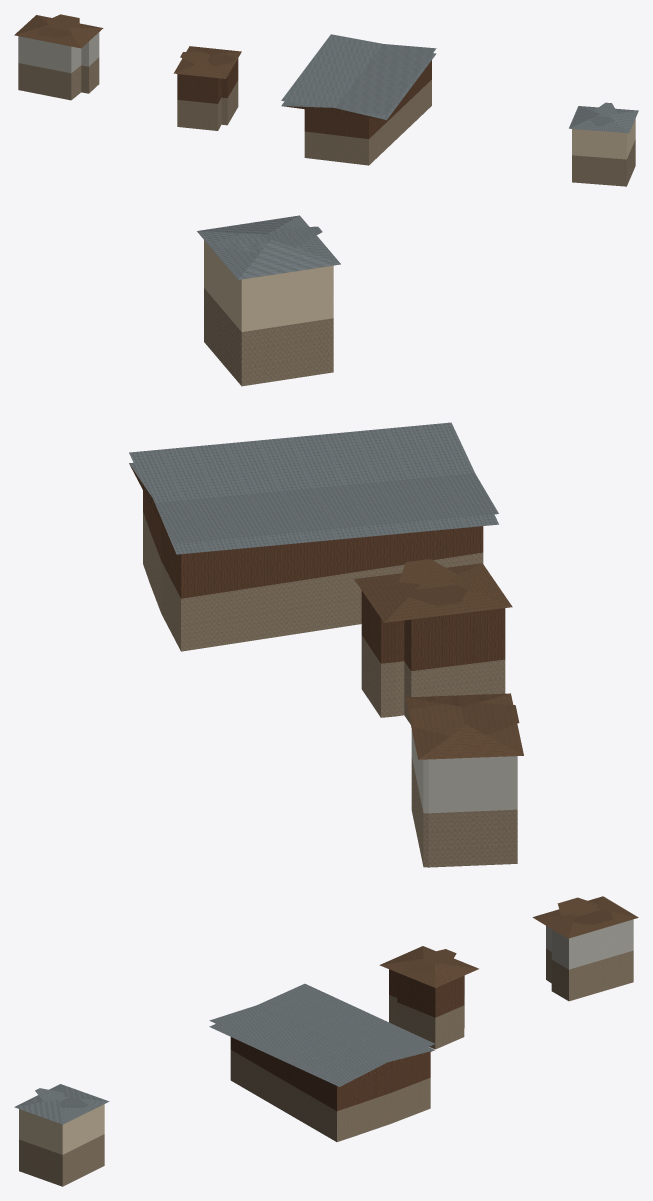
The model's file is bld_c44_46_185.gltf.
The picture shows the model from 3 angles, top to bottom: view 1: azimuth 30°, elevation 25°; view 2: azimuth 150°, elevation 25°; view 3: azimuth 270°, elevation 25°; orthographic projection. The views are drawn at different scales.
Parts seen in each view (by area): view 1: bld_c44_46_185; view 2: bld_c44_46_185; view 3: bld_c44_46_185.
Part boxes in pixels (x1,y1,x2,y2): bld_c44_46_185: (14,14,638,186); bld_c44_46_185: (129,215,523,867); bld_c44_46_185: (14,896,638,1186).
Bounding box in the file's own units: 77.63 × 12.6 × 90.97.
7 materials, 7 textured.
